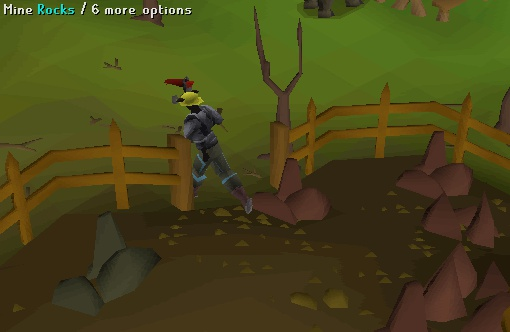coal: (22, 199, 202, 325)
iron: (228, 144, 344, 239), (373, 119, 489, 214)
